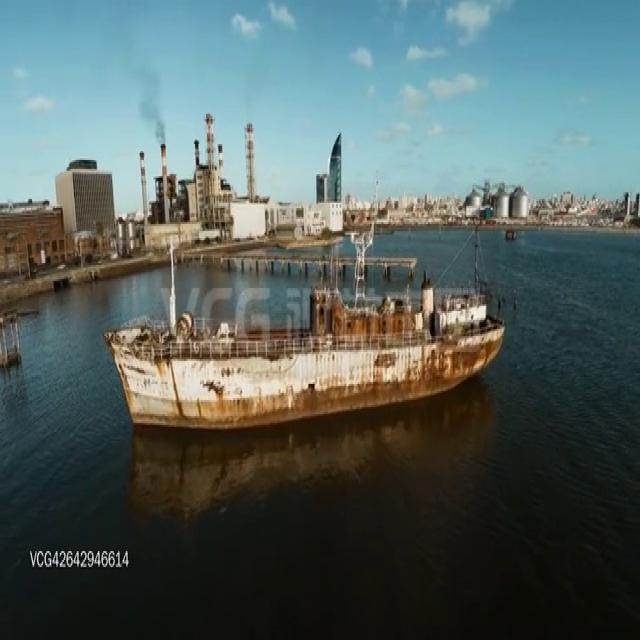cargoship: (110, 243, 506, 430)
